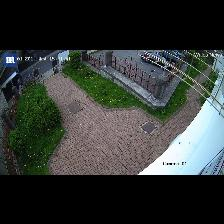person: (141, 54, 146, 63)
